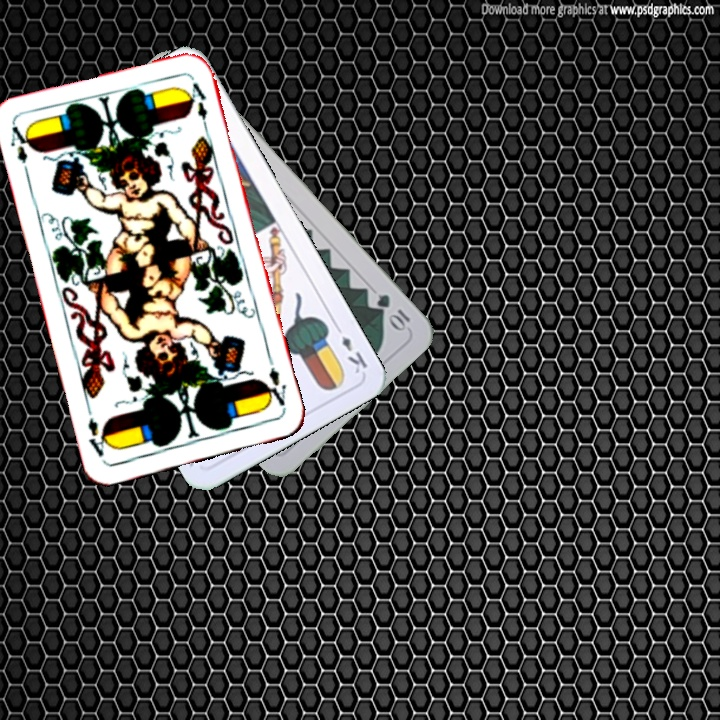EA: (6, 122, 36, 180), (260, 355, 289, 413)
EK: (330, 320, 370, 377)
G10: (372, 289, 413, 333)
